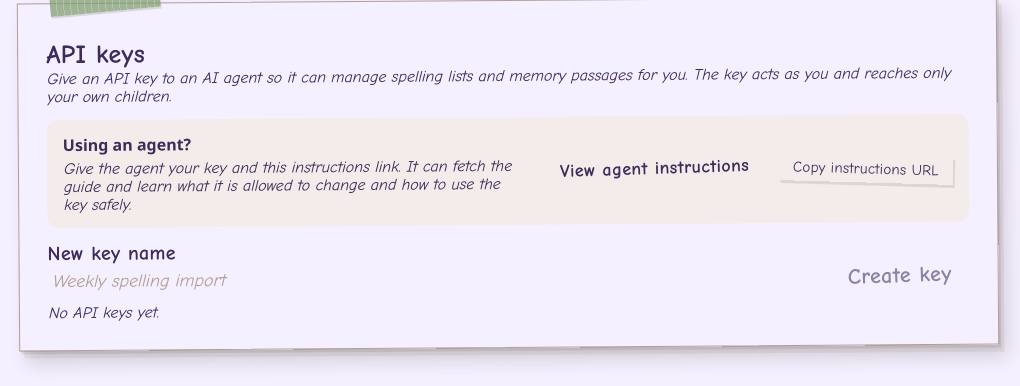
Scenario: listing keys › explains the agent handoff and offers a copyable instructions URL
expect the text "Give an API key to an AI agent" is shown: met, box [46,64,950,106]
Click the button "Copy instructions URL" at (866, 168), box [779,152,953,185]
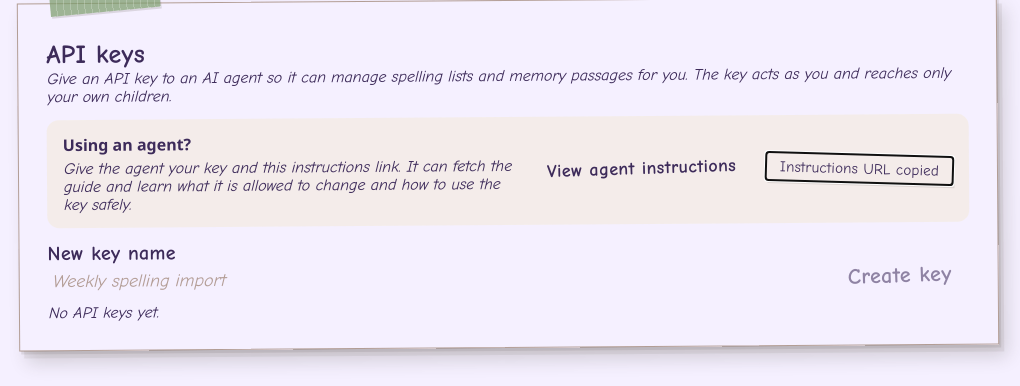
expect the button "Instructions URL copied" is shown: met, box [766,152,953,185]
